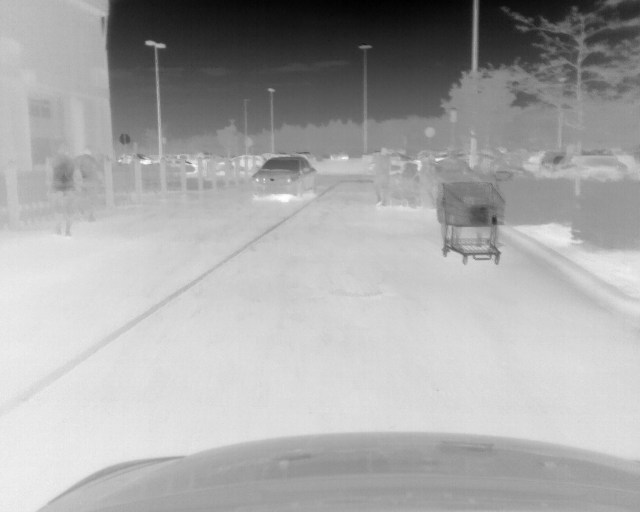car: (251, 157, 316, 201)
people: (436, 145, 470, 254), (474, 151, 502, 249), (49, 146, 75, 239), (77, 143, 100, 222), (372, 147, 391, 207), (415, 148, 431, 209)
